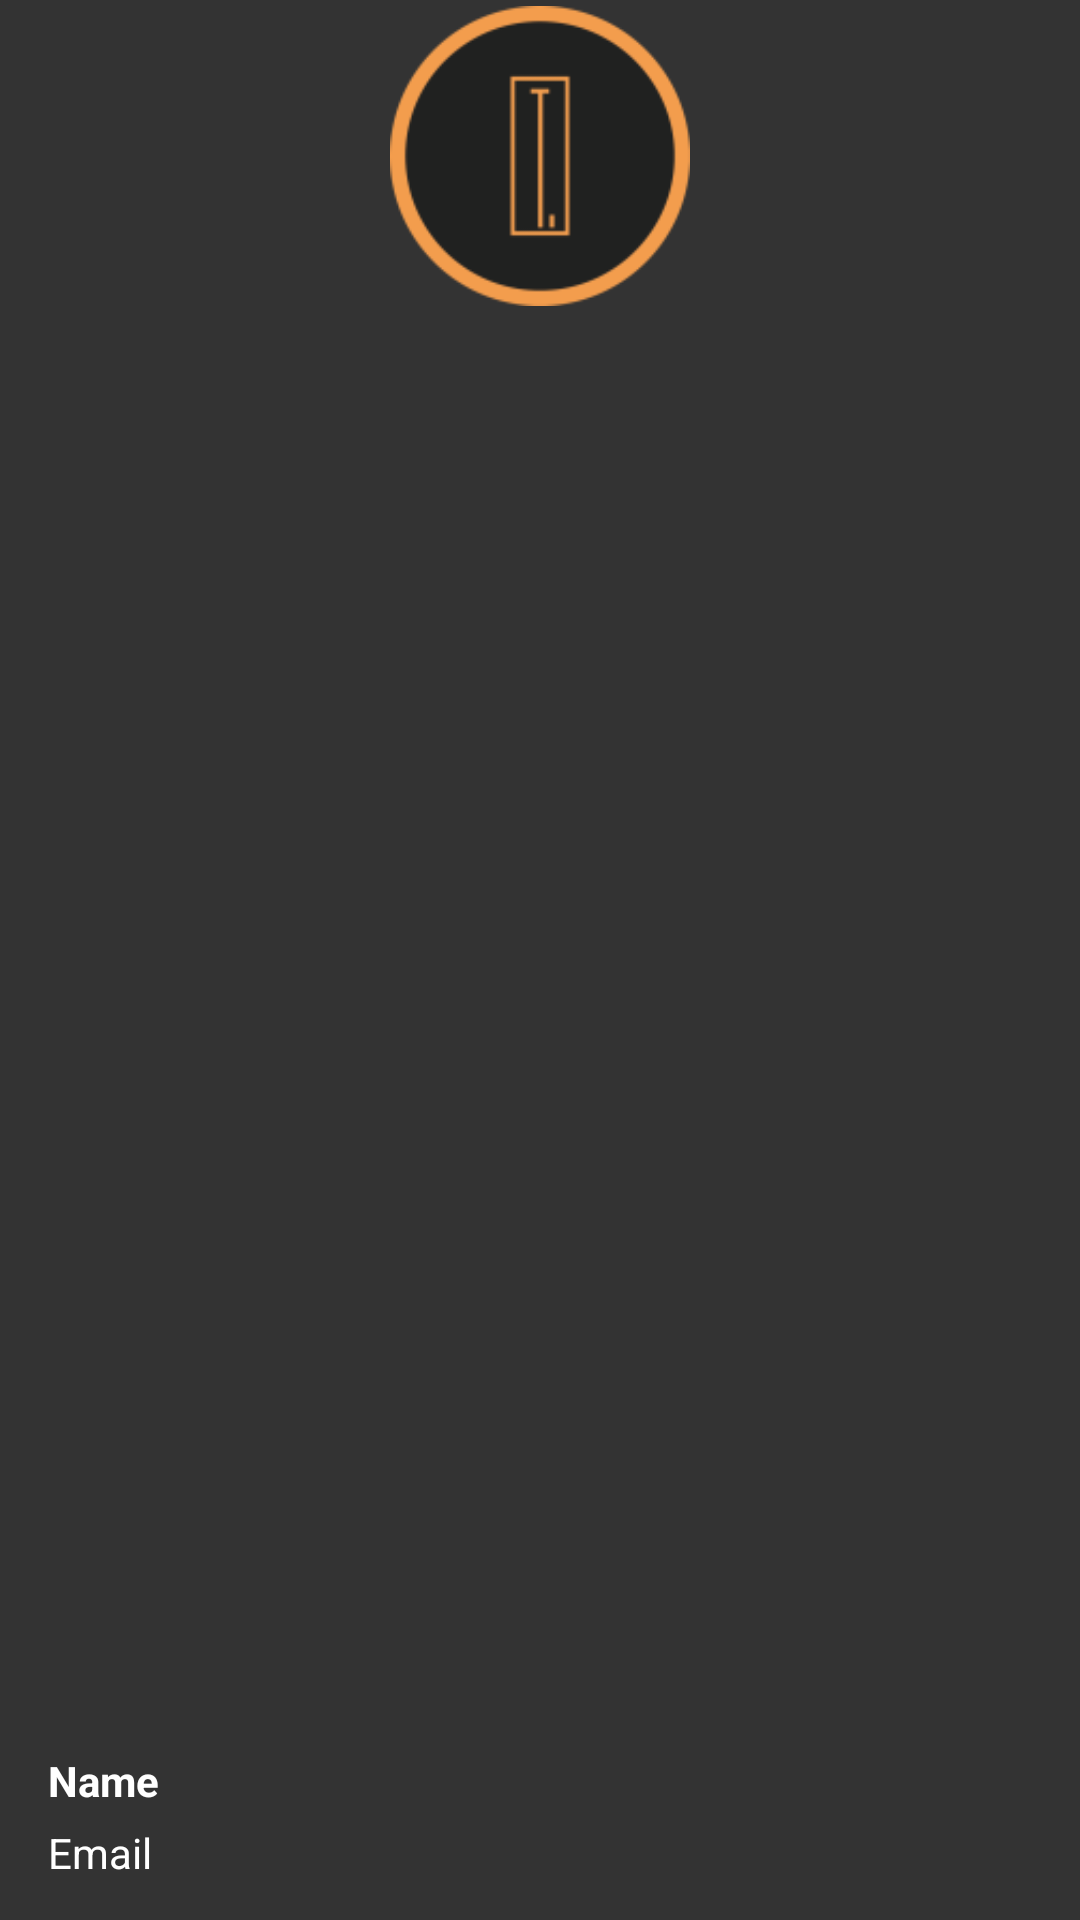

Screen size 1080w x 1920h. Icon name, then its center in pixels as point (x, y):
toastit: point (540, 156)
